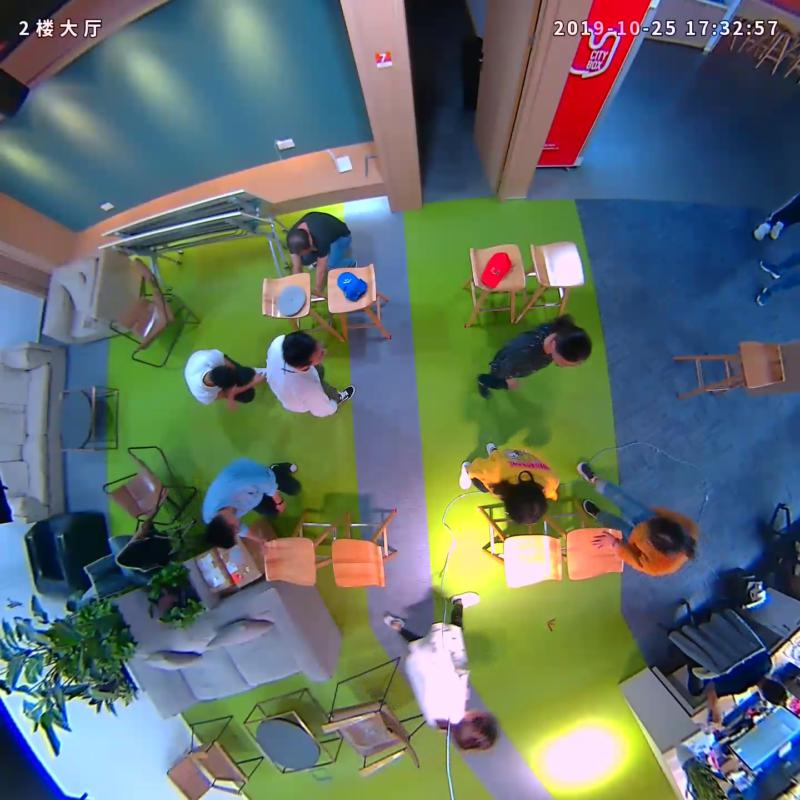head: (451, 707, 508, 761), (495, 477, 556, 525), (540, 319, 595, 372), (642, 508, 697, 560), (277, 329, 329, 374), (197, 512, 243, 556), (282, 225, 317, 261), (204, 361, 241, 389)
